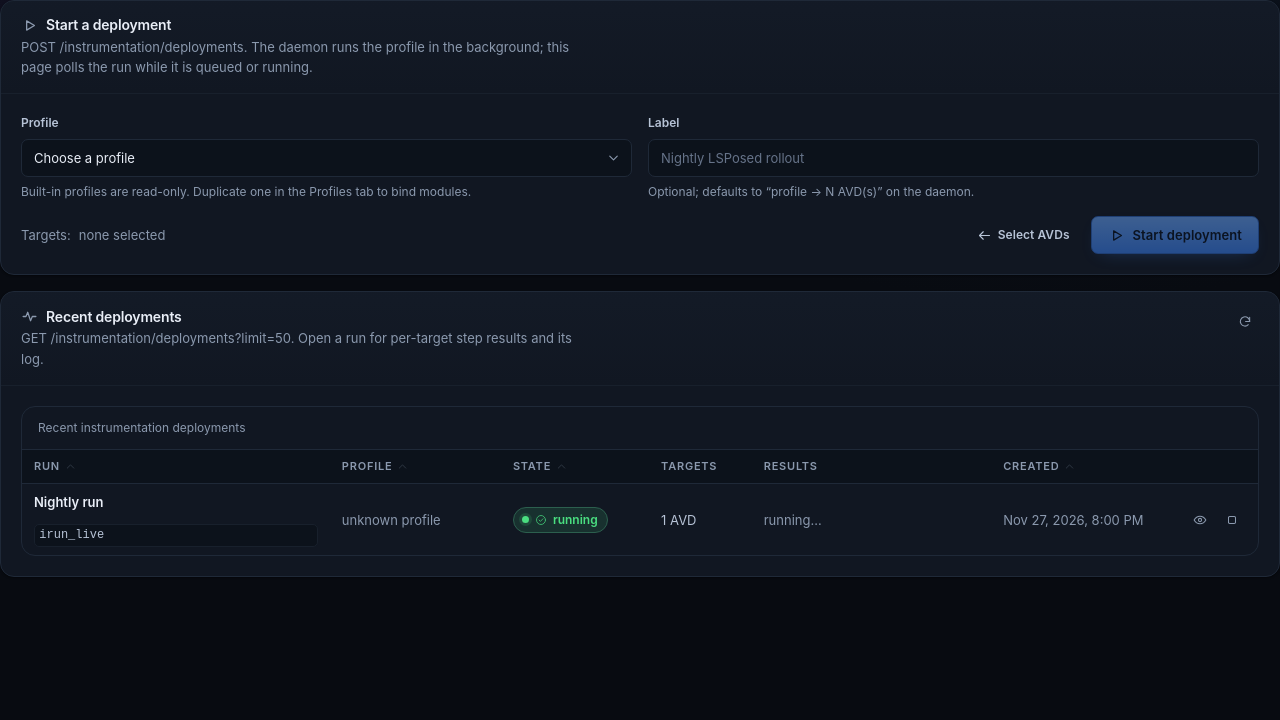
Test case: Deployments live progress › refreshes the visible run on a matching event without waiting for the poll
The image size is (1280, 720).
Later steps or results of the test are not shown.
Click the button named "Open run Nightly run" at (1200, 520), box [1186,506,1214,534]
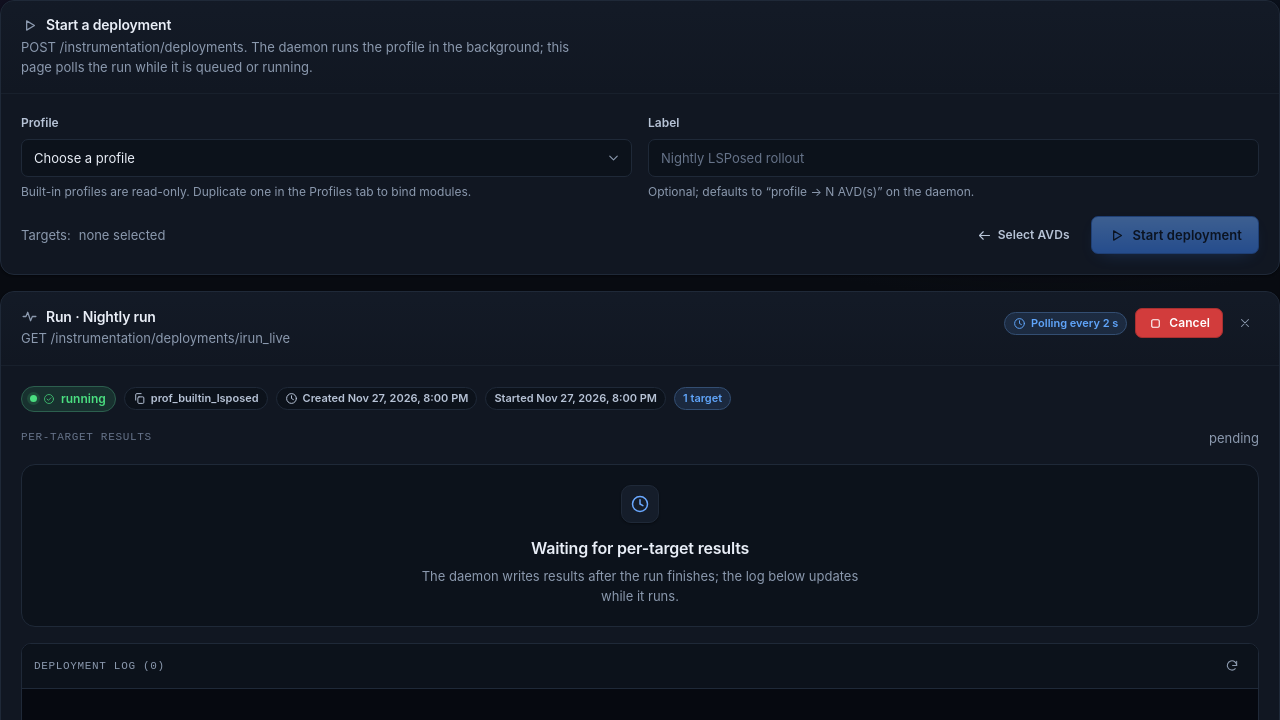
Now the text "Polling every 2 s" is shown, box [1031,315,1118,332]
